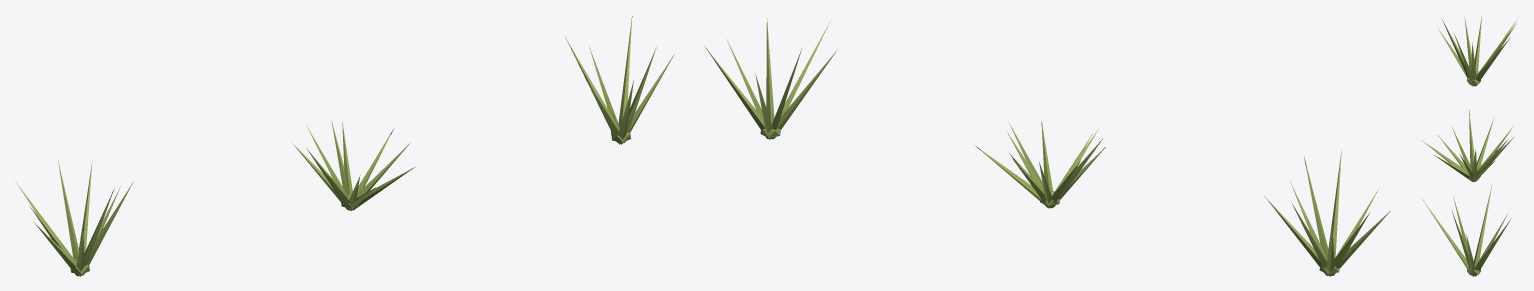
Rendered from fiber_plant.glb.
3 renders of one model, left to right at view 1: azimuth 30°, elevation 25°; view 2: azimuth 150°, elevation 25°; view 3: azimuth 270°, elevation 25°, orthographic. The views are drawn at different scales.
Parts seen in each view (by area): view 1: fiber_1, fiber_2, fiber_3; view 2: fiber_1, fiber_3, fiber_2; view 3: fiber_2, fiber_3, fiber_1.
Part boxes in pixels (x1=…): fiber_1: x1=15, y1=160, x2=132, y2=276; fiber_2: x1=292, y1=121, x2=414, y2=210; fiber_3: x1=565, y1=16, x2=674, y2=144; fiber_1: x1=1264, y1=150, x2=1390, y2=276; fiber_3: x1=705, y1=18, x2=837, y2=139; fiber_2: x1=974, y1=122, x2=1105, y2=208; fiber_2: x1=1421, y1=110, x2=1513, y2=181; fiber_3: x1=1423, y1=184, x2=1511, y2=276; fiber_1: x1=1438, y1=16, x2=1518, y2=86.
Bounding box in the file's own units: 14.28 × 2.33 × 2.66.
Materials: 3 (3 with a texture image).
